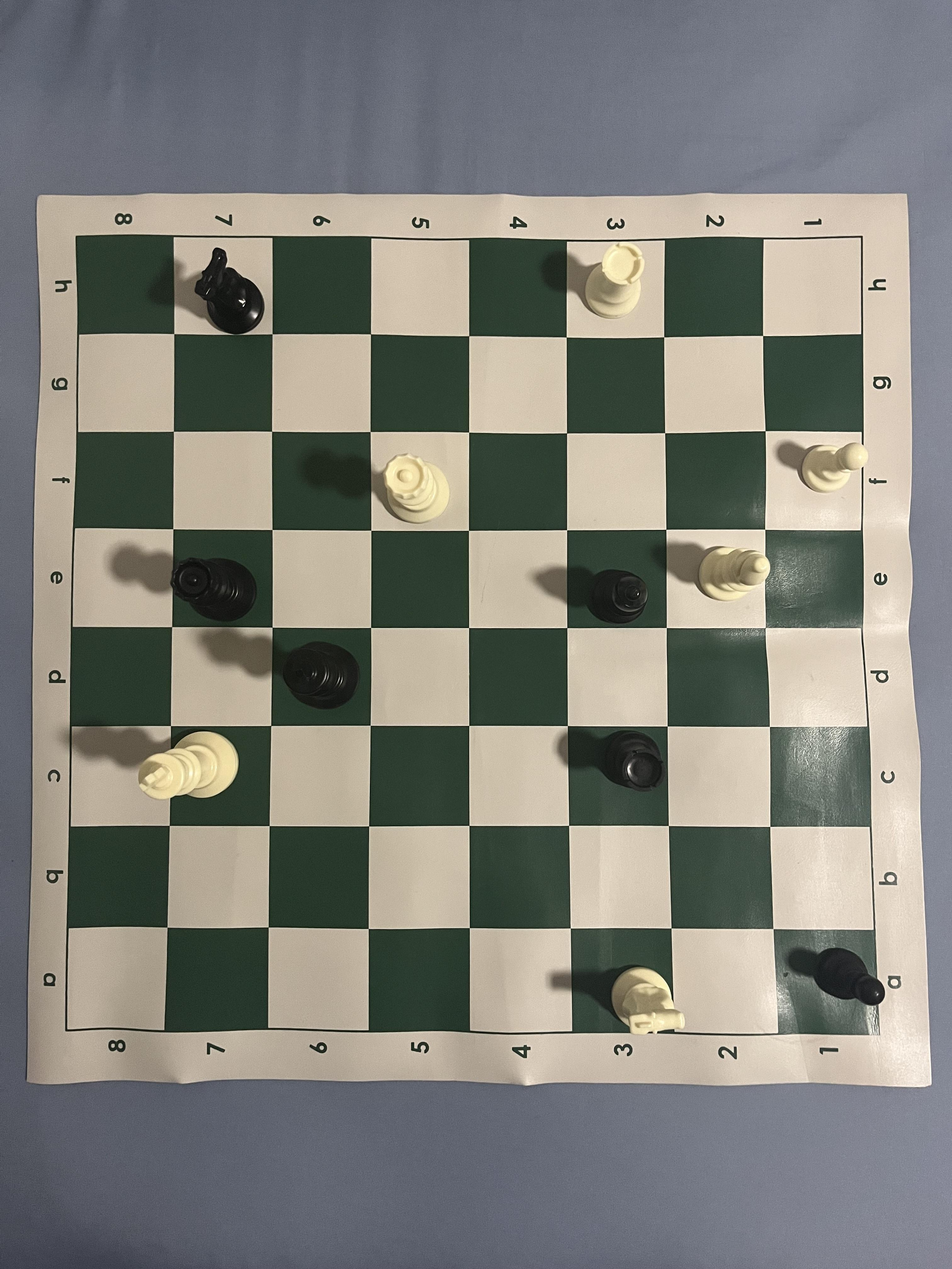black_bishop: (580, 567, 656, 627)
black_king: (280, 638, 367, 713)
black_knight: (191, 245, 267, 336)
black_pawn: (810, 945, 887, 1012)
black_queen: (168, 555, 262, 625)
black_rook: (598, 728, 670, 800)
white_bishop: (694, 544, 773, 604)
white_king: (135, 729, 243, 803)
white_knight: (608, 964, 689, 1038)
white_pawn: (797, 440, 872, 496)
white_queen: (377, 450, 456, 527)
white_rook: (581, 240, 649, 323)
